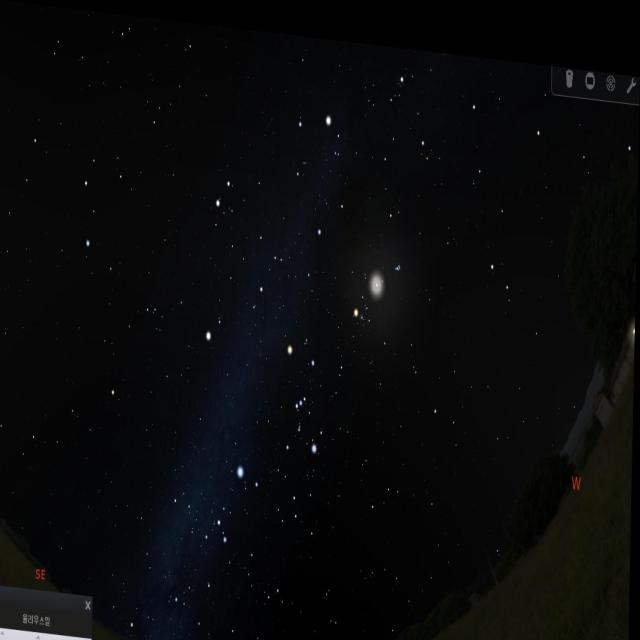canis_major: (213, 448, 266, 548)
canis_minor: (206, 307, 229, 350)
gemini: (215, 171, 286, 299)
moon: (369, 257, 385, 292)
orion: (280, 325, 328, 461)
pleiades: (392, 247, 405, 270)
taurus: (352, 227, 411, 336)
